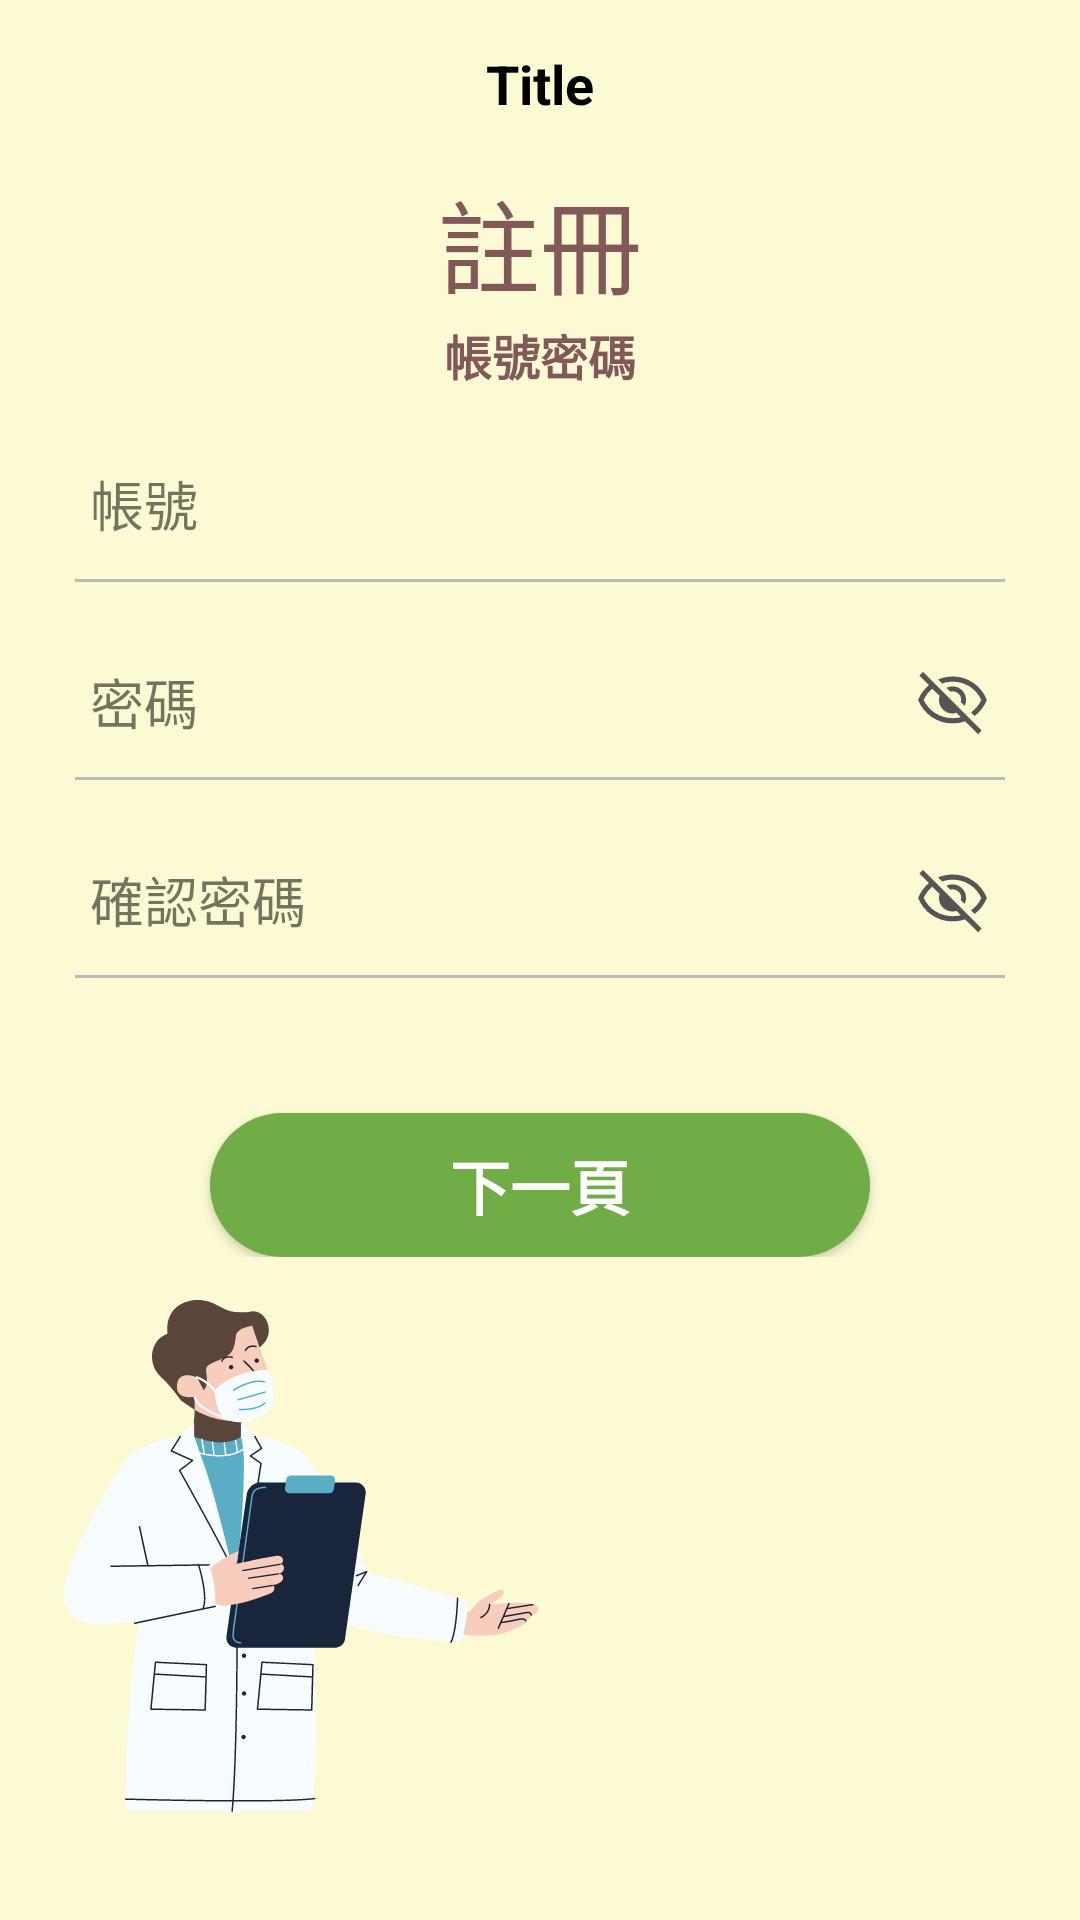

Icon click points for this 1080 × 1920 phone screenshot, format point (x, y):
eyes off: point (952, 703), point (952, 901)
